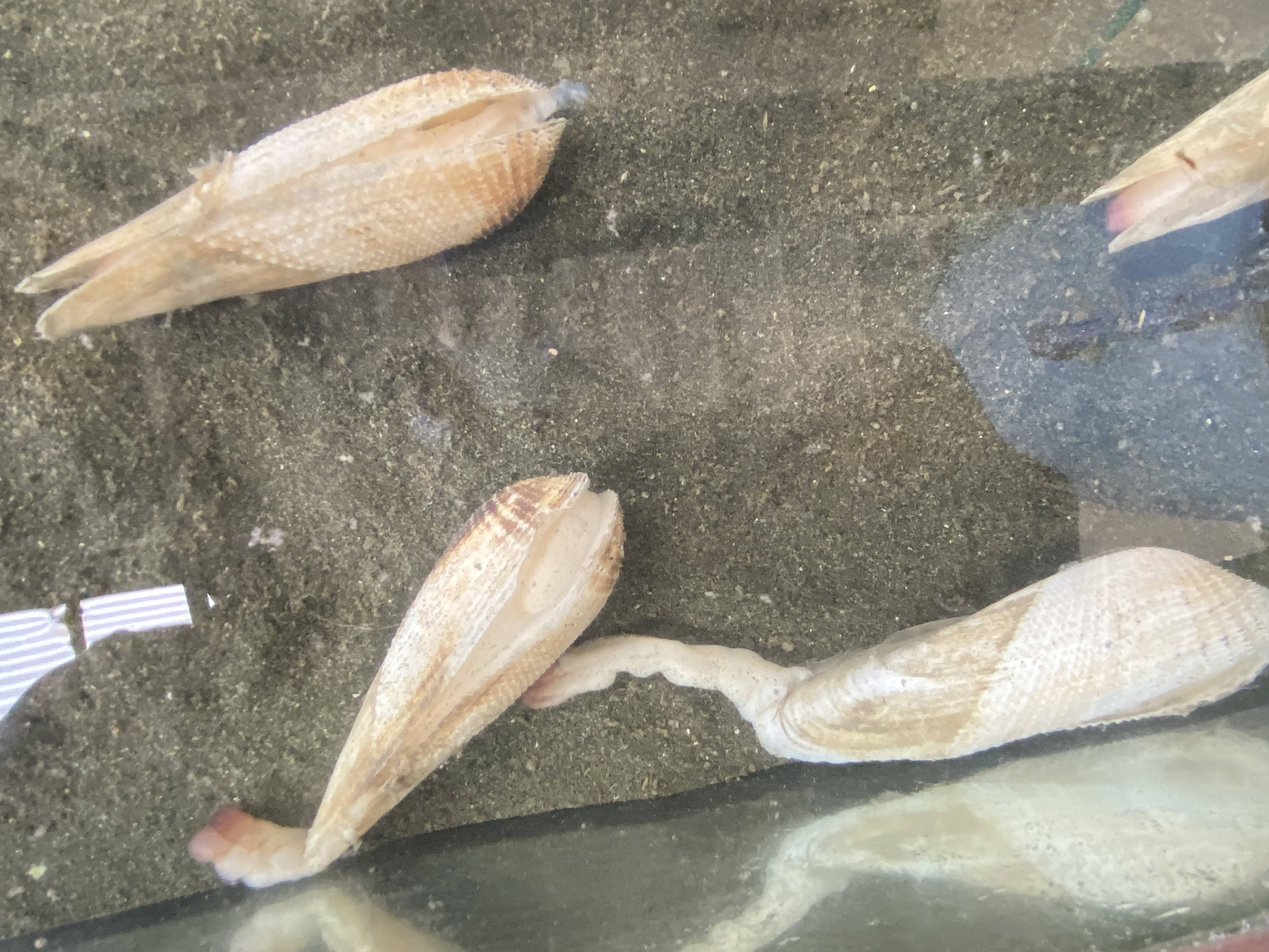At risk: (191, 473, 1269, 886), (16, 70, 585, 338), (1085, 75, 1269, 249)
